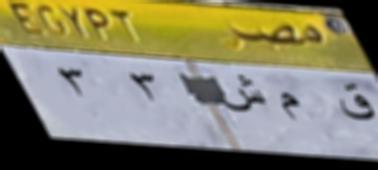3: (122, 66, 172, 108), (52, 64, 94, 106)
meem: (272, 86, 308, 129)
qaaf: (338, 78, 376, 130)
sheen: (219, 72, 265, 118)
